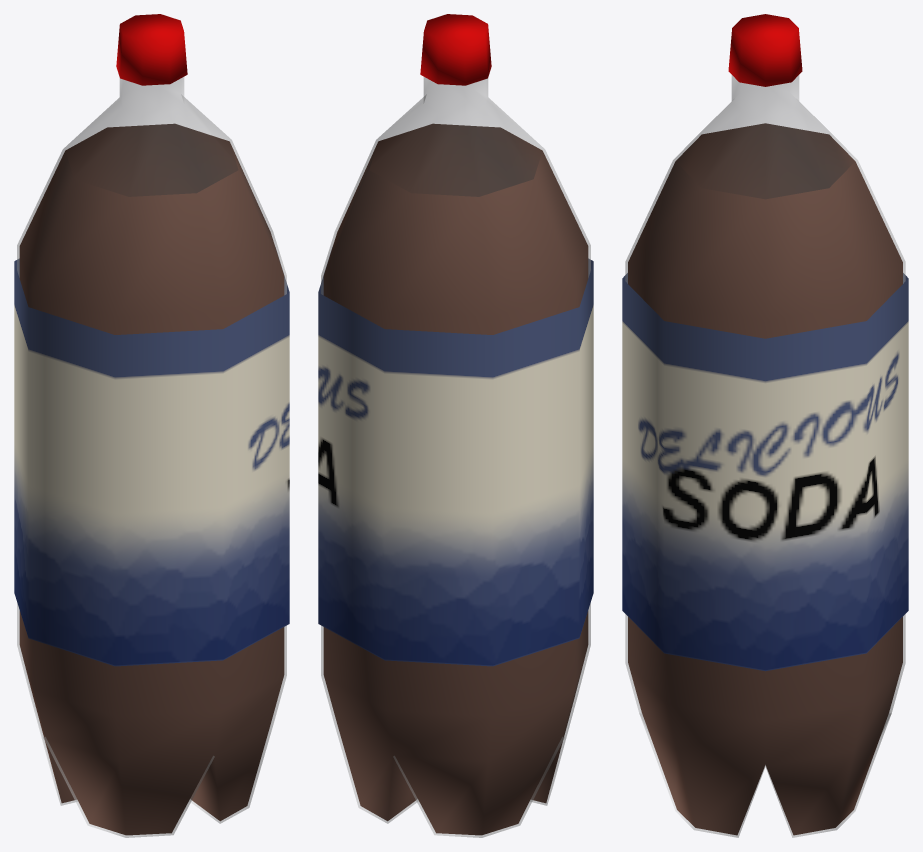
The model's file is Bottle.fbx.
3 views of the same model, side by side, from view 1: azimuth 30°, elevation 25°; view 2: azimuth 150°, elevation 25°; view 3: azimuth 270°, elevation 25° (orthographic).
Parts seen in each view (by area): view 1: BottleLabel, Bottle, Liquid, BottleCap; view 2: BottleLabel, Bottle, Liquid, BottleCap; view 3: BottleLabel, Bottle, Liquid, BottleCap.
Part boxes in pixels (x1,y1,x2,y2): BottleLabel: (14,247,289,666); Bottle: (17,77,286,837); Liquid: (19,123,284,835); BottleCap: (116,14,187,85); BottleLabel: (318,247,593,666); Bottle: (321,77,590,837); Liquid: (323,123,588,835); BottleCap: (420,14,491,85); BottleLabel: (622,273,908,671); Bottle: (625,75,905,837); Liquid: (628,123,902,835); BottleCap: (728,14,802,86).
Bounding box in the file's own units: 10.2 × 30.55 × 10.2.
